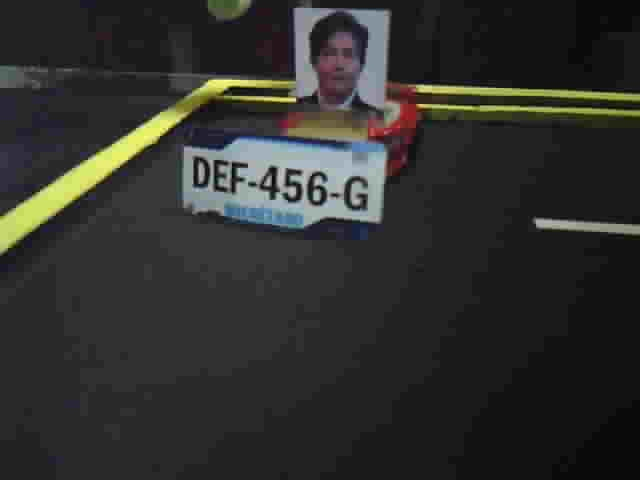PLACA: (179, 126, 390, 243)
ROSTRO: (295, 9, 383, 116)
